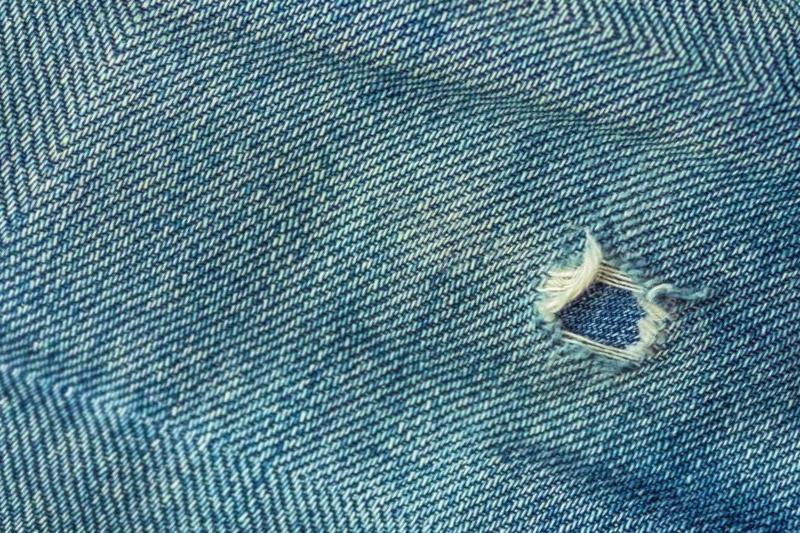hole: (540, 253, 677, 367)
